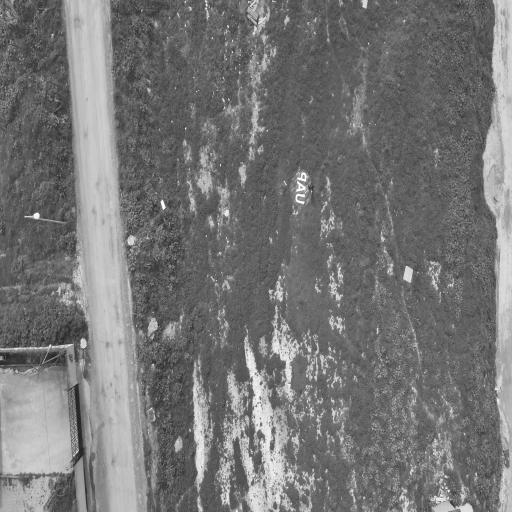UAP: (290, 168, 312, 208)
person: (308, 183, 313, 191)
